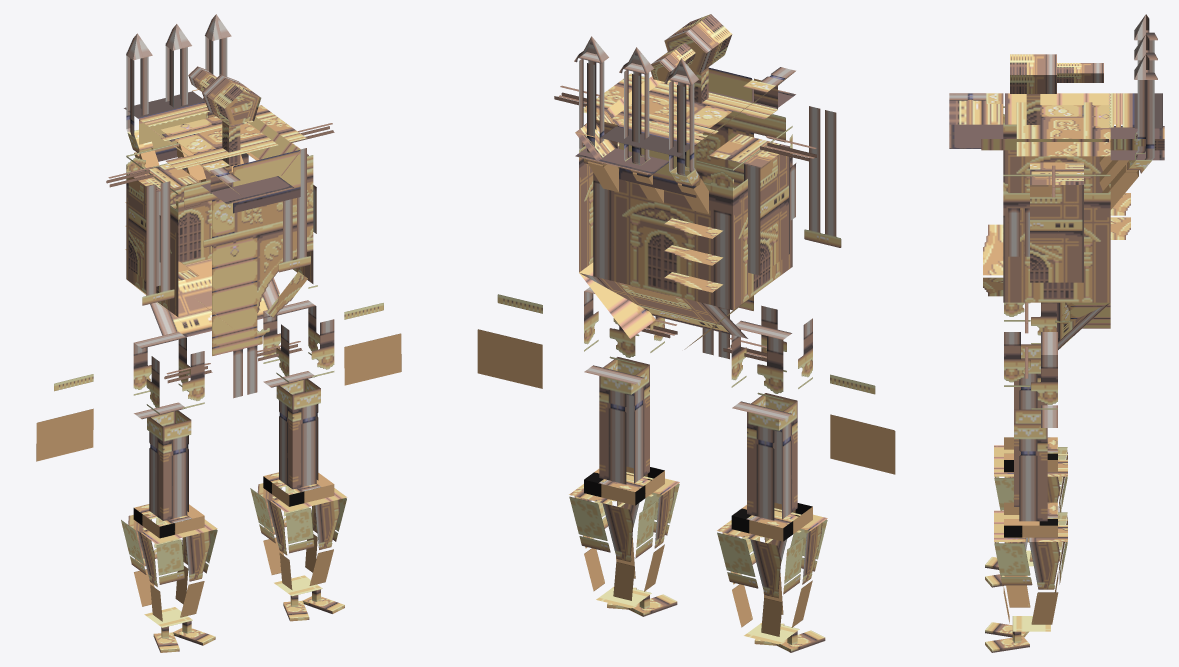
File: testRobot.dae
The picture shows the model from 3 angles, left to right: view 1: azimuth 30°, elevation 25°; view 2: azimuth 150°, elevation 25°; view 3: azimuth 270°, elevation 25°; orthographic projection. The views are drawn at different scales.
Bounding box in the file's own units: 9.11 × 11.73 × 4.
Materials: 1 (1 with a texture image).
